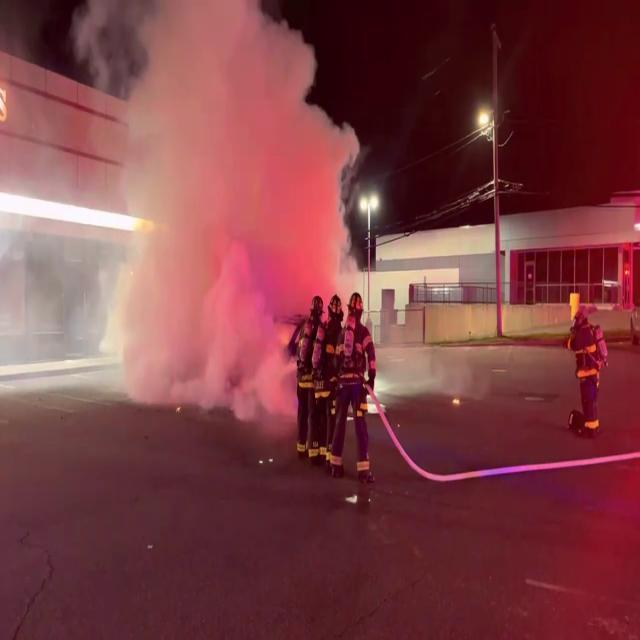Smoke: (68, 0, 366, 427)
